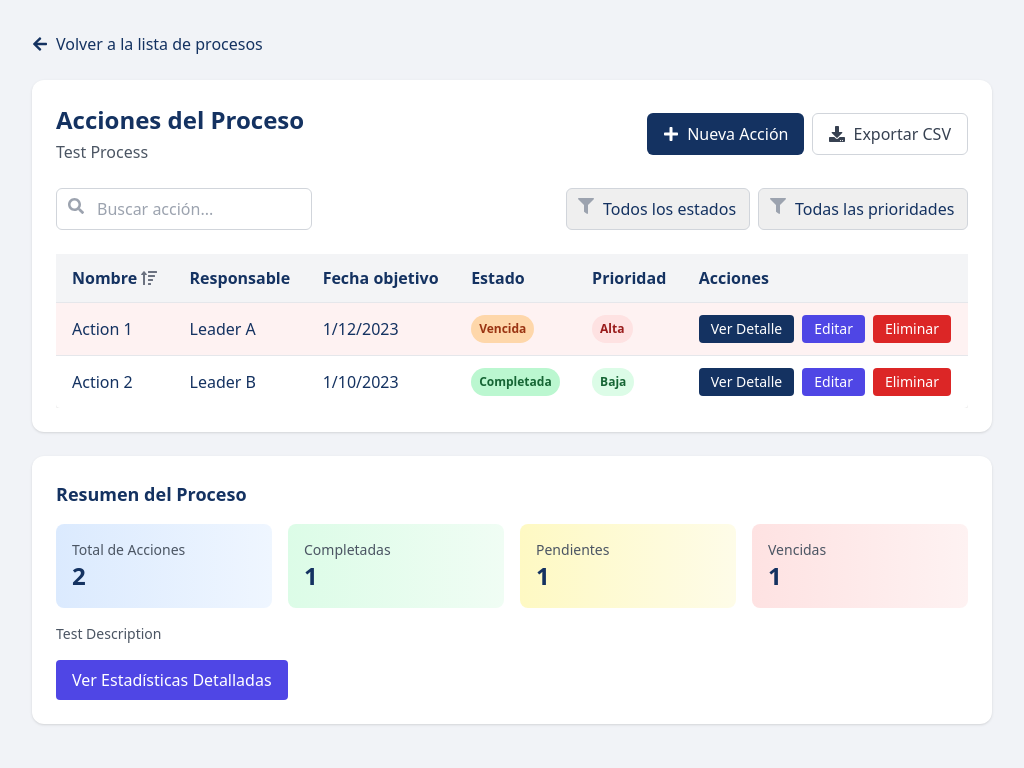
ActionsList › should filter actions by priority
Expected: the text "Action 1" is shown, [56, 302, 174, 356]
Select "Alta" in the 2nd dropdown at (863, 209), box [758, 188, 968, 230]
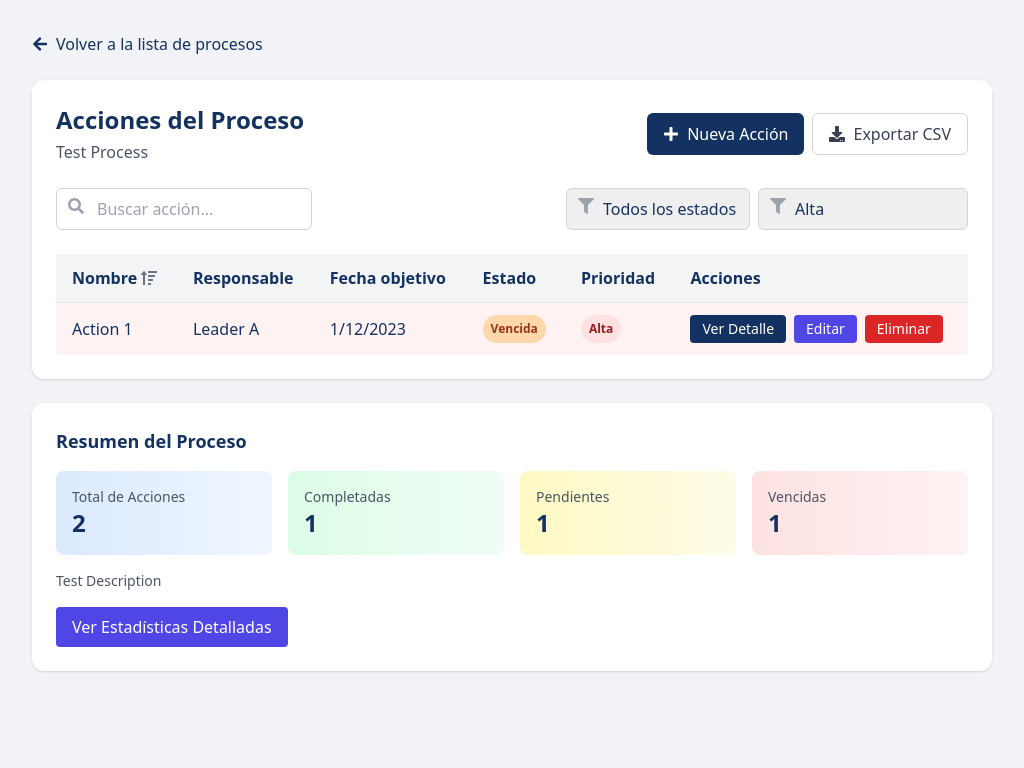
Expected: the text "Action 1" is shown, [56, 302, 177, 355]
Expected: the text "Action 2" is gone
